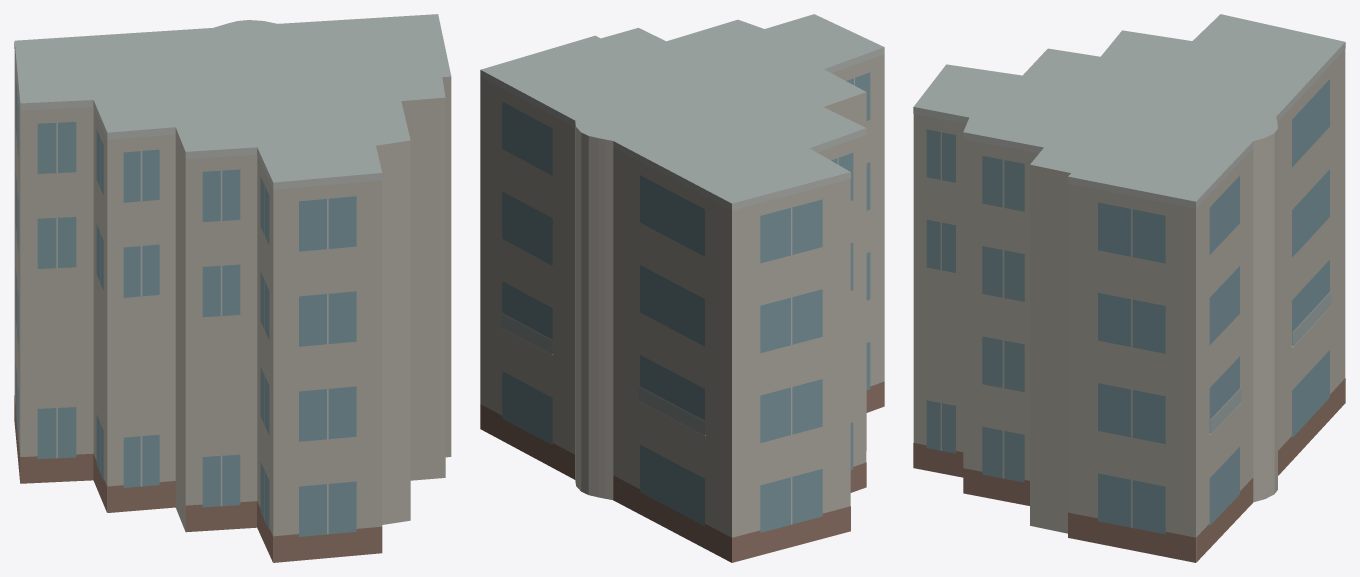
Rendered from survey-upis-32519106.glb.
The picture shows the model from 3 angles, left to right: view 1: azimuth 30°, elevation 25°; view 2: azimuth 150°, elevation 25°; view 3: azimuth 270°, elevation 25°; orthographic projection. The views are drawn at different scales.
Visible parts, largest first — view 1: survey-upis-32519106.tmp; view 2: survey-upis-32519106.tmp; view 3: survey-upis-32519106.tmp.
Part boxes in pixels (x1,y1,x2,y2): survey-upis-32519106.tmp: [14, 14, 451, 562]; survey-upis-32519106.tmp: [480, 14, 884, 562]; survey-upis-32519106.tmp: [913, 14, 1345, 562].
Size of the model in its own units: 14.27 by 12.8 by 13.88.
